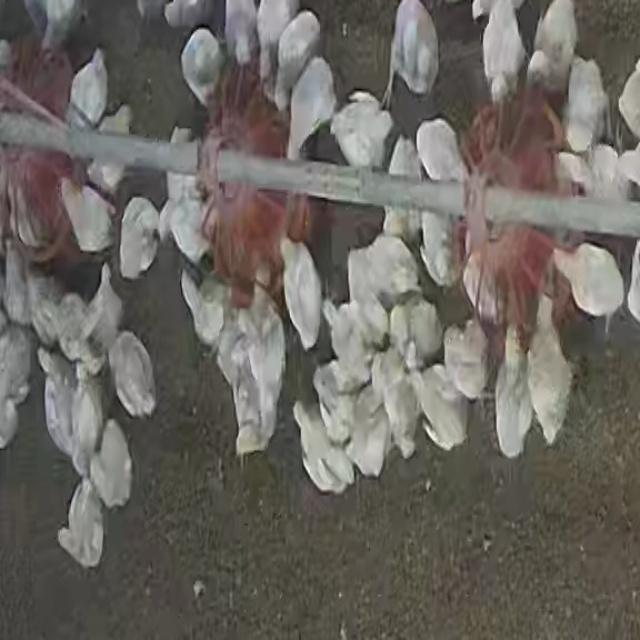chicken: (524, 312, 572, 451), (245, 303, 288, 451), (348, 233, 423, 315), (551, 239, 625, 321), (293, 399, 352, 495), (388, 0, 441, 95), (374, 348, 418, 461), (33, 348, 77, 460), (412, 364, 466, 455), (286, 61, 334, 160), (493, 332, 530, 460), (332, 94, 393, 170), (384, 135, 424, 249), (324, 300, 377, 386), (275, 10, 320, 110), (528, 0, 576, 93), (281, 235, 320, 348), (88, 102, 136, 192), (482, 0, 524, 102), (345, 384, 390, 478), (556, 142, 624, 204), (562, 59, 606, 152), (58, 176, 112, 251), (178, 266, 226, 349), (56, 489, 104, 570), (64, 47, 109, 132), (442, 320, 488, 403), (26, 269, 72, 352), (0, 323, 30, 448), (91, 421, 133, 507), (390, 297, 444, 363), (414, 118, 466, 186), (112, 333, 154, 416), (239, 280, 284, 357), (118, 196, 158, 280), (181, 27, 223, 102), (310, 359, 350, 437), (214, 319, 248, 410), (71, 367, 100, 471), (256, 0, 294, 78), (418, 211, 457, 286), (165, 130, 203, 204), (93, 260, 123, 352), (32, 2, 83, 54), (62, 293, 94, 374), (1, 242, 30, 326), (224, 0, 259, 67), (174, 200, 211, 260), (617, 56, 640, 140), (461, 256, 488, 322), (161, 0, 207, 29), (99, 103, 133, 133)
